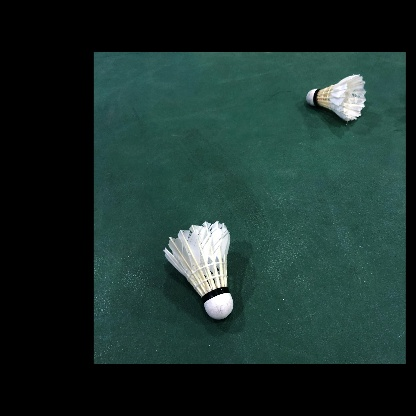ball_single: (163, 220, 233, 319), (306, 74, 367, 121)
